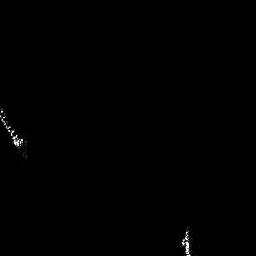ship: (1, 107, 30, 159), (180, 221, 194, 256)
